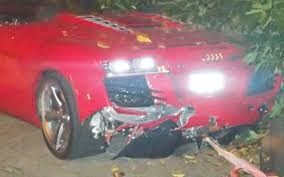Smashed: (81, 103, 218, 153)
